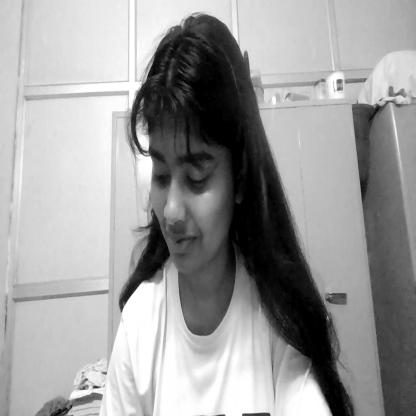Distracted: (135, 17, 250, 286)
